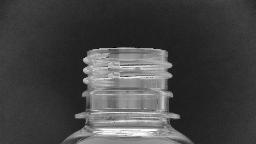No Cap: (70, 43, 182, 126)
